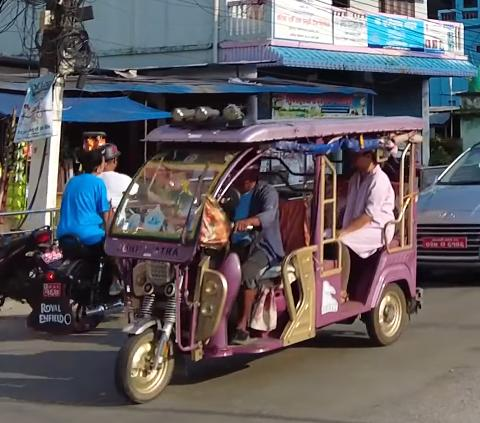e-rickshaw: (103, 98, 427, 406)
